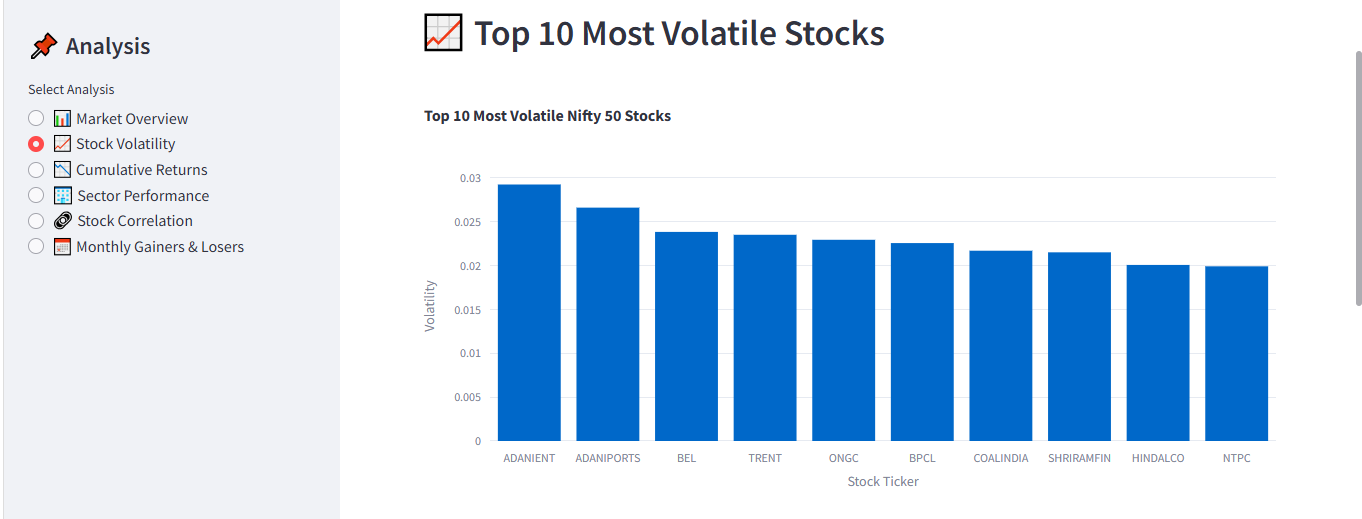

The page's visual inventory and layout, read from the dashboard file:
{"tool":"powerbi","page":{"name":"Page 3","canvas":[1920,1080],"ordinal":2},"visuals":[{"type":"clusteredBarChart","title":"TOP 10 MOST VOLATILITY NIFTY 50 STOCKS","fields":{"Category":["stock_analysis stock_volatility.Stock"],"Y":["Sum(stock_analysis stock_volatility.Volatility)"]},"box":[23.2,31.9,1243.5,640.6],"z":0}]}

Visuals, with their boxes on the page's 1920x1080 design canvas (x1, y1, x2, y2). These are canvas units, not pixel positions in the 1362x519 screenshot, which may show the page scaled, cropped or inside an application window:
"TOP 10 MOST VOLATILITY NIFTY 50 STOCKS" clusteredBarChart: (left=23, top=32, right=1267, bottom=672)
